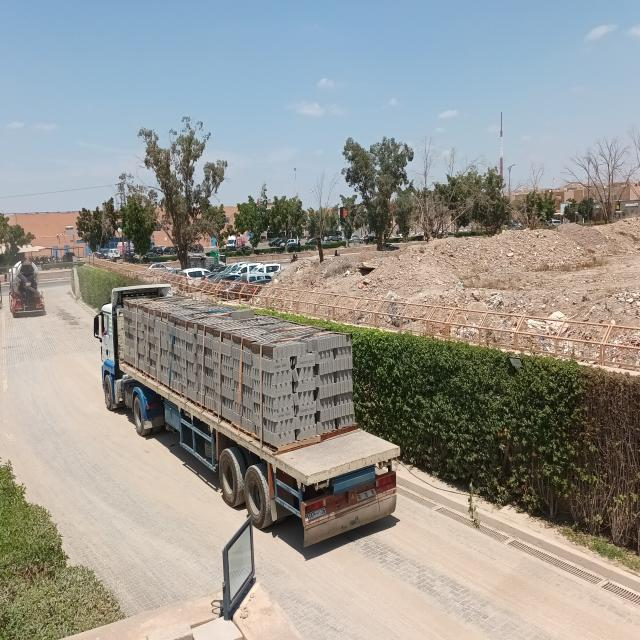bricks: (123, 297, 355, 444), (23, 95, 41, 114), (55, 90, 69, 112)
